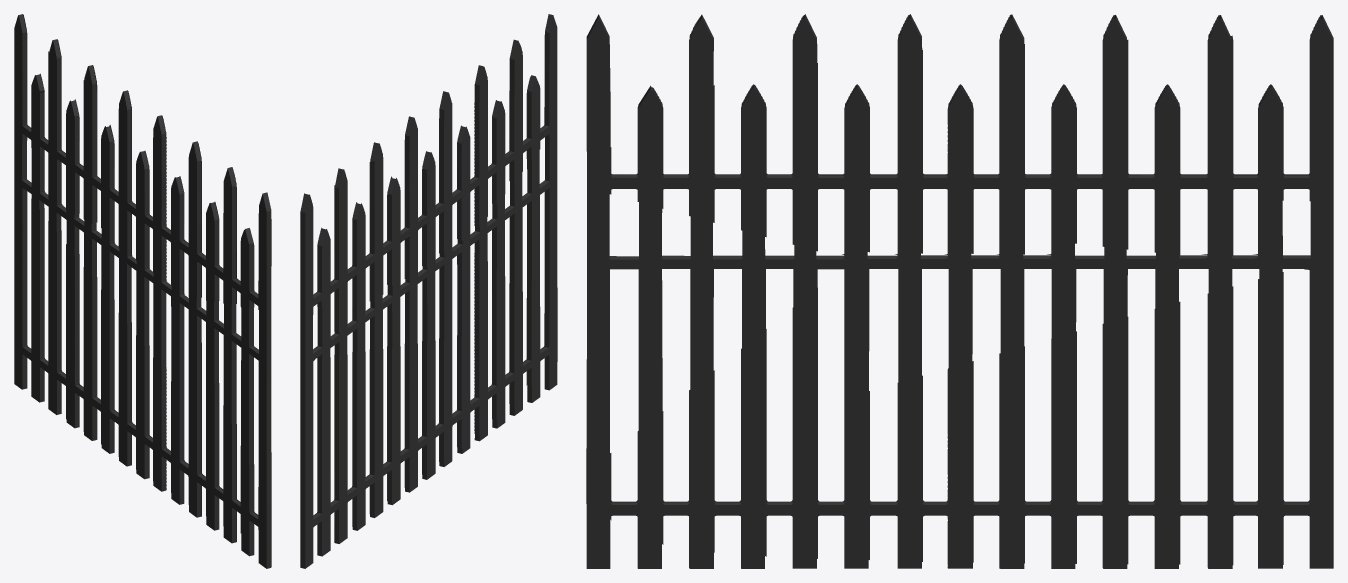
Rendered from FenceModel.fbx.
3 renders of one model, left to right at view 1: azimuth 30°, elevation 25°; view 2: azimuth 150°, elevation 25°; view 3: azimuth 270°, elevation 25°, orthographic. The views are drawn at different scales.
Parts seen in each view (by area): view 1: fence; view 2: fence; view 3: fence.
Boxes of the visible parts, box(x1,y1,x2,y2) form: fence: box(14, 14, 271, 568); fence: box(300, 14, 557, 568); fence: box(586, 14, 1333, 568).
Size of the model in its own units: 1 by 73.55 by 90.32.
1 material, 1 textured.
